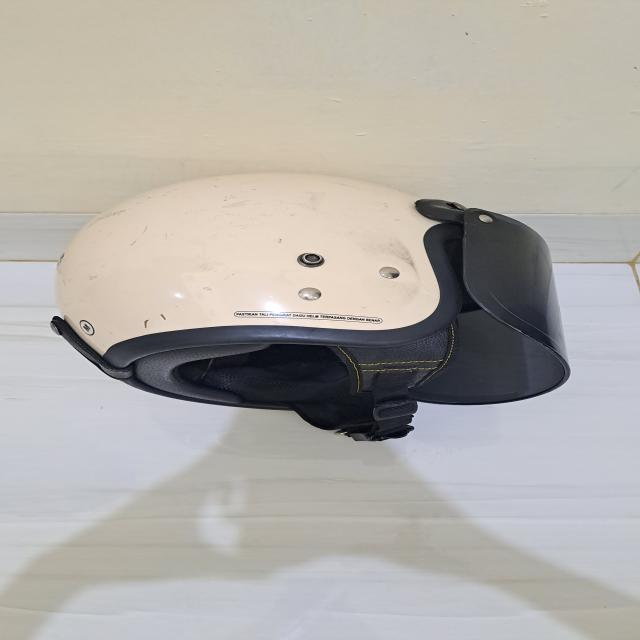Helm: (38, 160, 580, 452)
